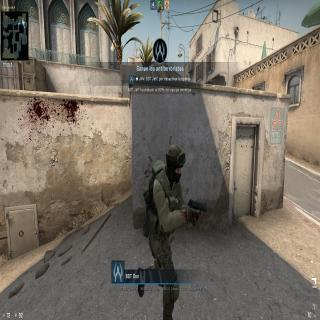CT-Head: (166, 140, 187, 189)
